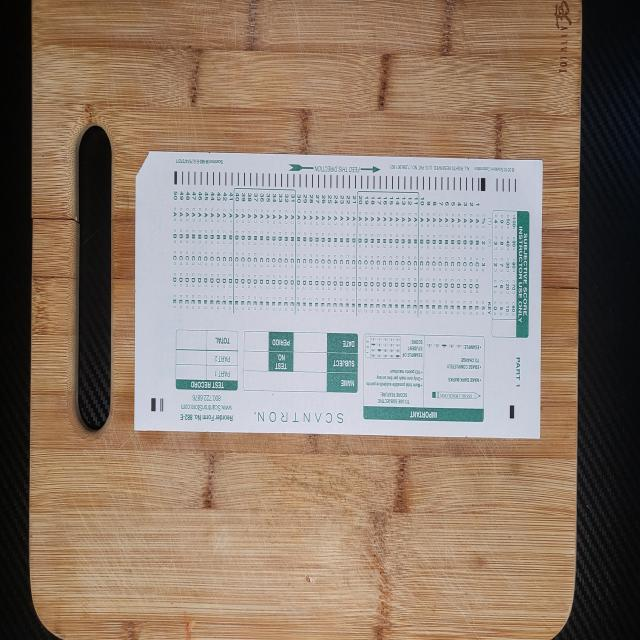scantron: (134, 152, 542, 438)
